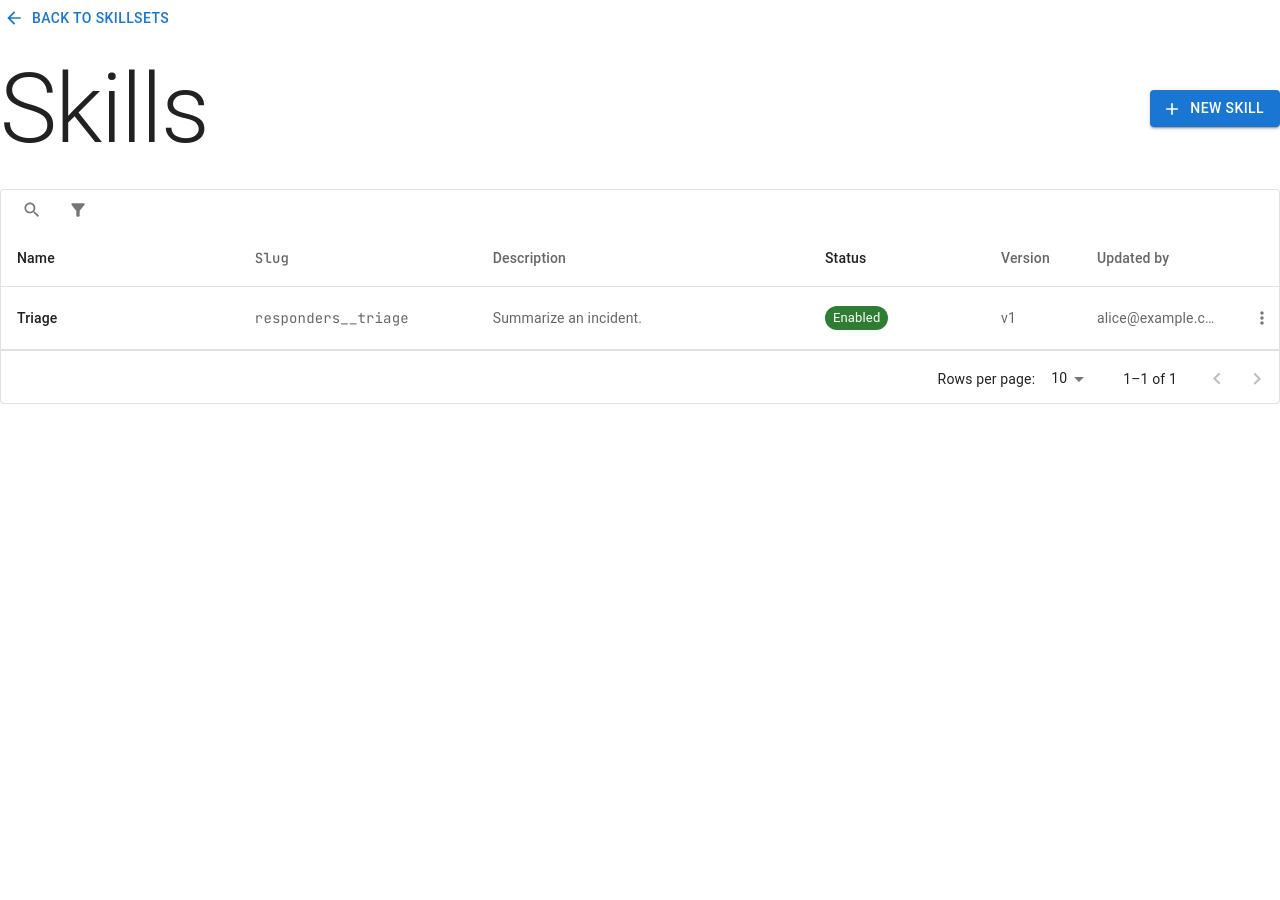
Scenario: SkillsetSkills › opens skill details when optional metadata arrays are absent
This screenshot has width=1280, height=900.
Expected: the text "Updated by" is shown, x1=1097 y1=246 x2=1169 y2=270
Expected: the text "alice@example.com" is shown, x1=1097 y1=308 x2=1215 y2=328
Click the text "Triage": (37, 318) x1=17 y1=310 x2=58 y2=326
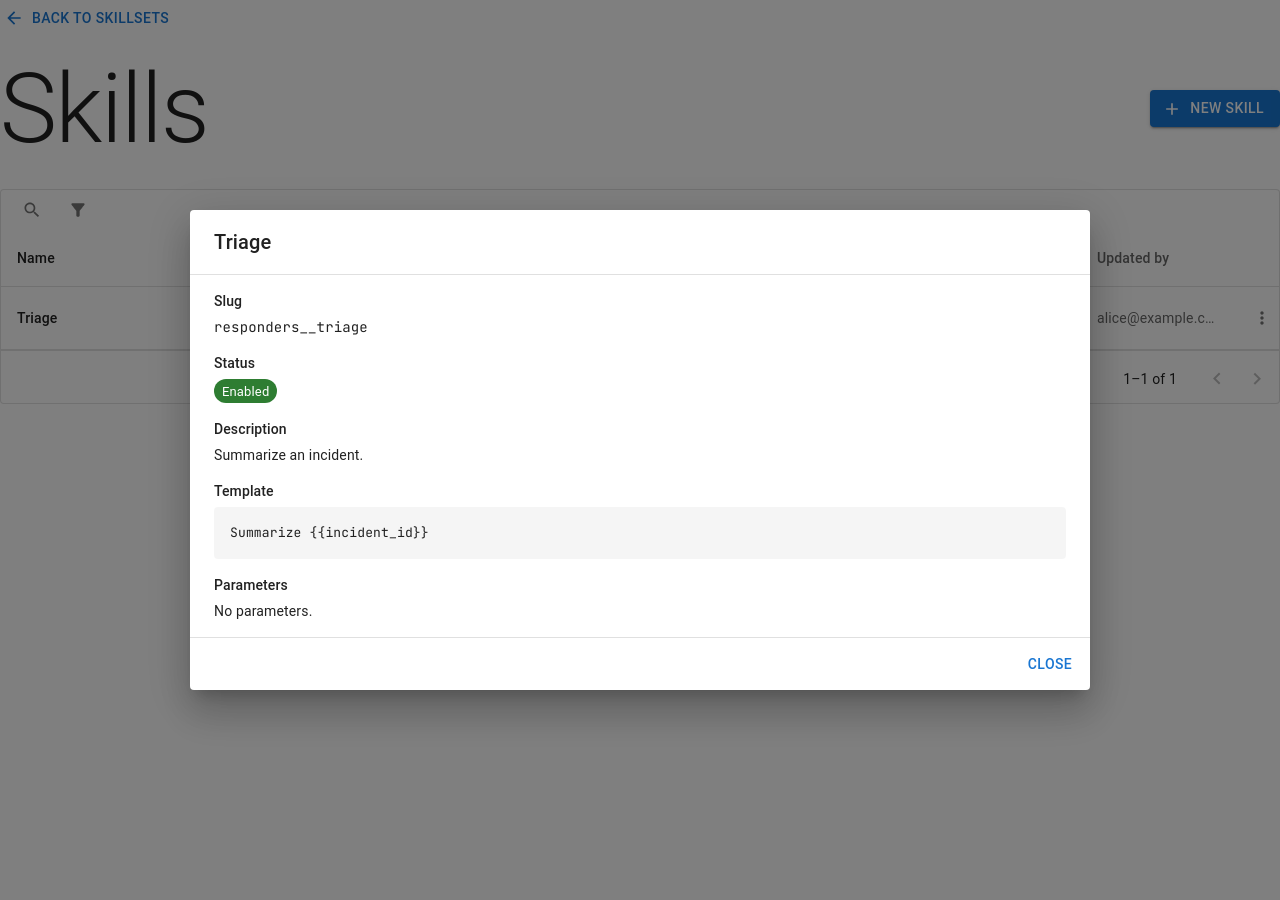
Now the dialog "Triage" is shown, box x1=190 y1=210 x2=1090 y2=690
Now the text "responders__triage" is shown, box x1=214 y1=318 x2=368 y2=336
Now the text "No parameters." is shown, box x1=214 y1=603 x2=312 y2=619
